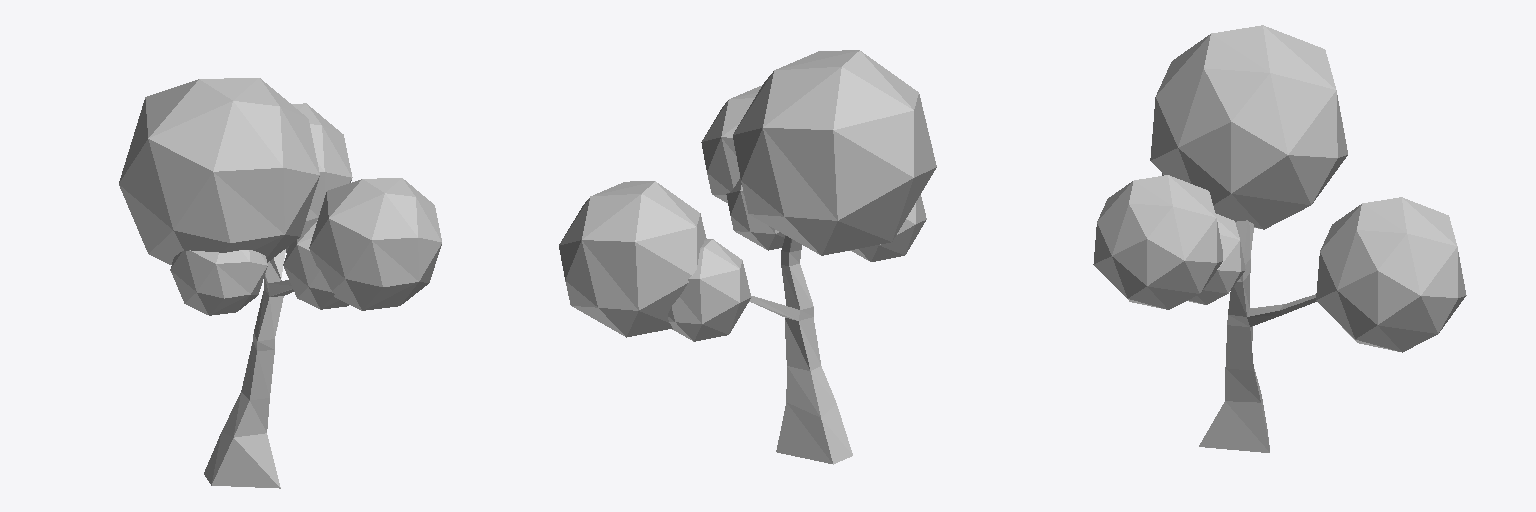
The model's file is testTree1.obj.
3 renders of one model, left to right at view 1: azimuth 30°, elevation 25°; view 2: azimuth 150°, elevation 25°; view 3: azimuth 270°, elevation 25°, orthographic.
Parts seen in each view (by area): view 1: Sphere.003, Sphere.004, Cube.002, Sphere.007, Sphere.005, Sphere.008; view 2: Sphere.003, Sphere.005, Cube.002, Sphere.006, Sphere.004, Sphere.008, Sphere.007; view 3: Sphere.003, Sphere.005, Sphere.004, Cube.002, Sphere.008.
Boxes of the visible parts, x1=… form: Sphere.003: x1=119, y1=78, x2=319, y2=264; Sphere.004: x1=309, y1=178, x2=441, y2=310; Cube.002: x1=204, y1=249, x2=293, y2=488; Sphere.007: x1=170, y1=250, x2=267, y2=315; Sphere.005: x1=286, y1=103, x2=352, y2=252; Sphere.008: x1=283, y1=217, x2=348, y2=309; Sphere.003: x1=733, y1=50, x2=936, y2=255; Sphere.005: x1=559, y1=181, x2=706, y2=337; Cube.002: x1=749, y1=236, x2=852, y2=464; Sphere.006: x1=668, y1=239, x2=751, y2=341; Sphere.004: x1=701, y1=86, x2=761, y2=202; Sphere.008: x1=726, y1=178, x2=785, y2=250; Sphere.007: x1=850, y1=195, x2=926, y2=261; Sphere.003: x1=1150, y1=25, x2=1347, y2=229; Sphere.005: x1=1316, y1=197, x2=1466, y2=352; Sphere.004: x1=1093, y1=175, x2=1222, y2=309; Cube.002: x1=1199, y1=220, x2=1316, y2=452; Sphere.008: x1=1188, y1=213, x2=1245, y2=304.
Size of the model in its own units: 11.5 by 15.44 by 13.12.